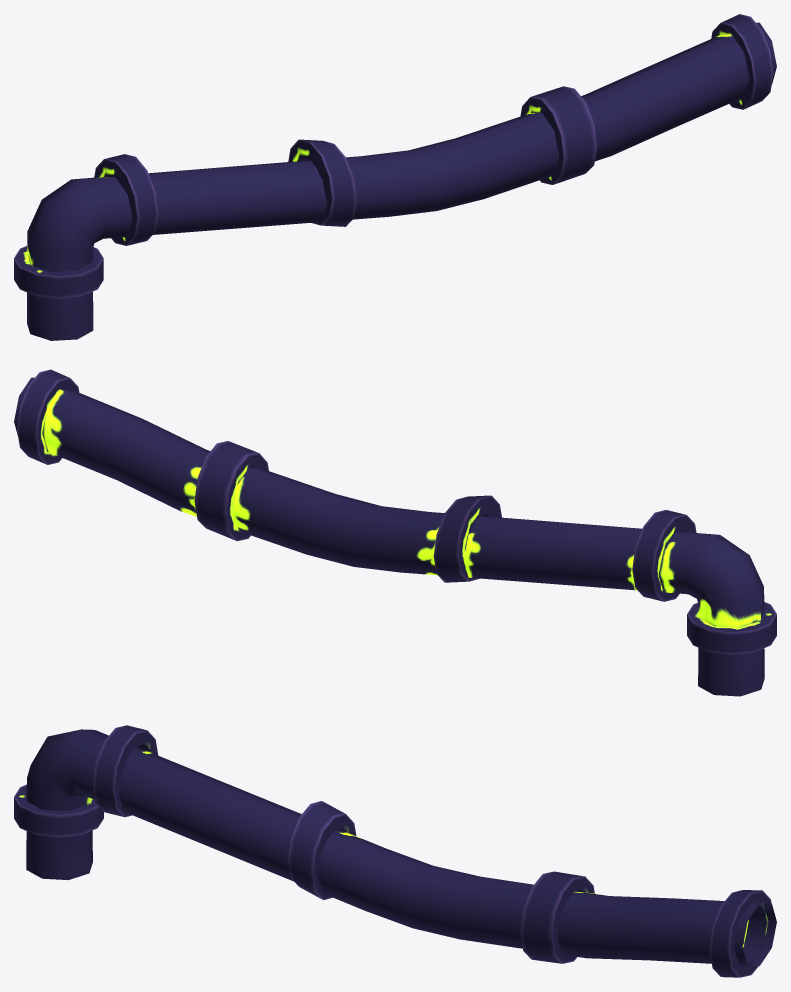
Rendered from new_ pipe.fbx.
3 renders of one model, top to bottom at view 1: azimuth 30°, elevation 25°; view 2: azimuth 150°, elevation 25°; view 3: azimuth 330°, elevation 25°, orthographic.
Parts seen in each view (by area): view 1: Cube.003; view 2: Cube.003; view 3: Cube.003.
Boxes of the visible parts, x1,y1,x2,y2 form: Cube.003: (14,14,776,340); Cube.003: (14,369,776,696); Cube.003: (14,725,776,977).
Bounding box in the file's own units: 719 × 141 × 77.32.
